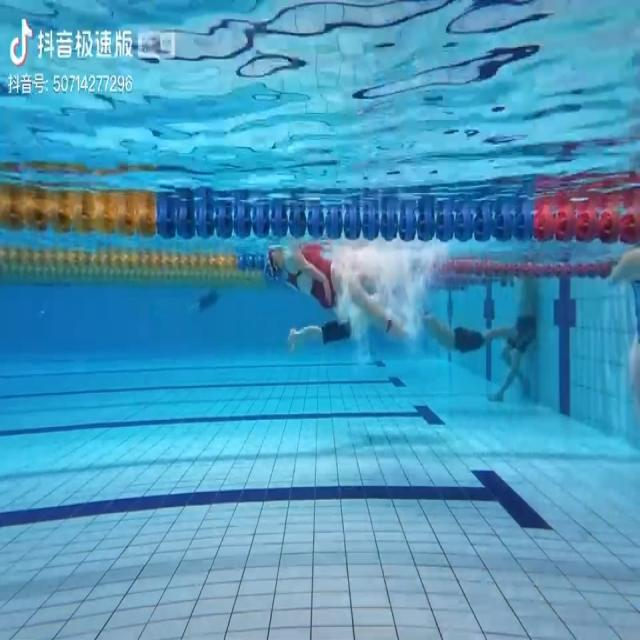Swimming: (262, 241, 417, 343), (420, 302, 523, 358), (287, 307, 380, 355)
